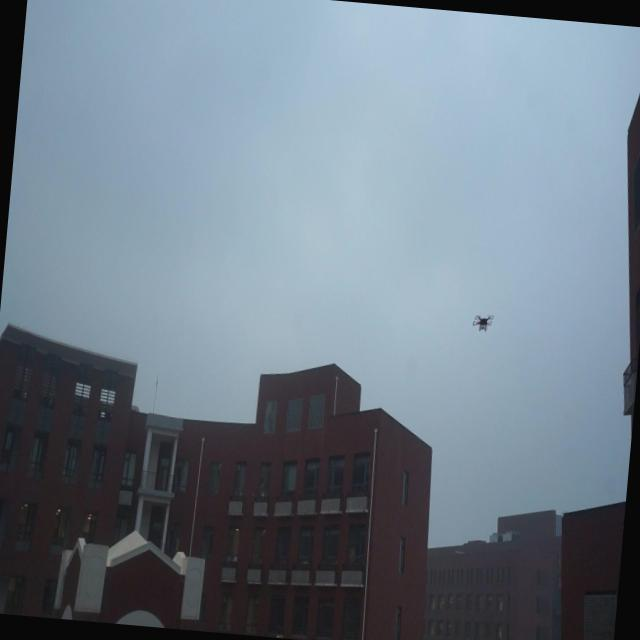drone: (470, 309, 498, 336)
